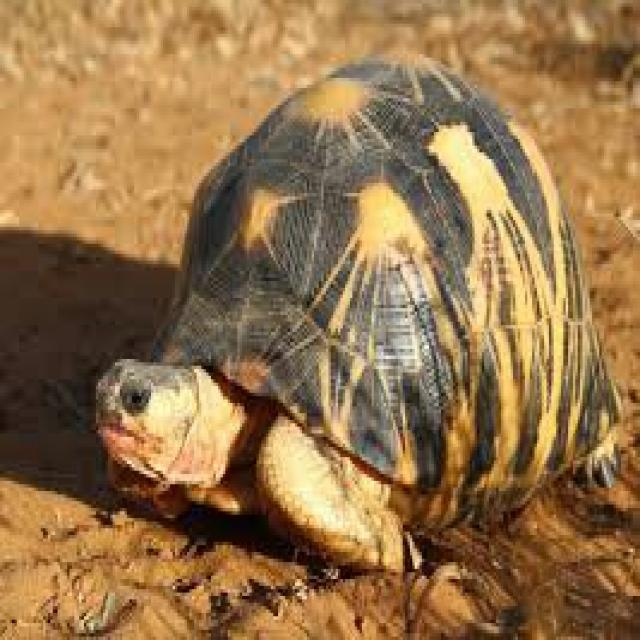turtle: (96, 58, 618, 569)
